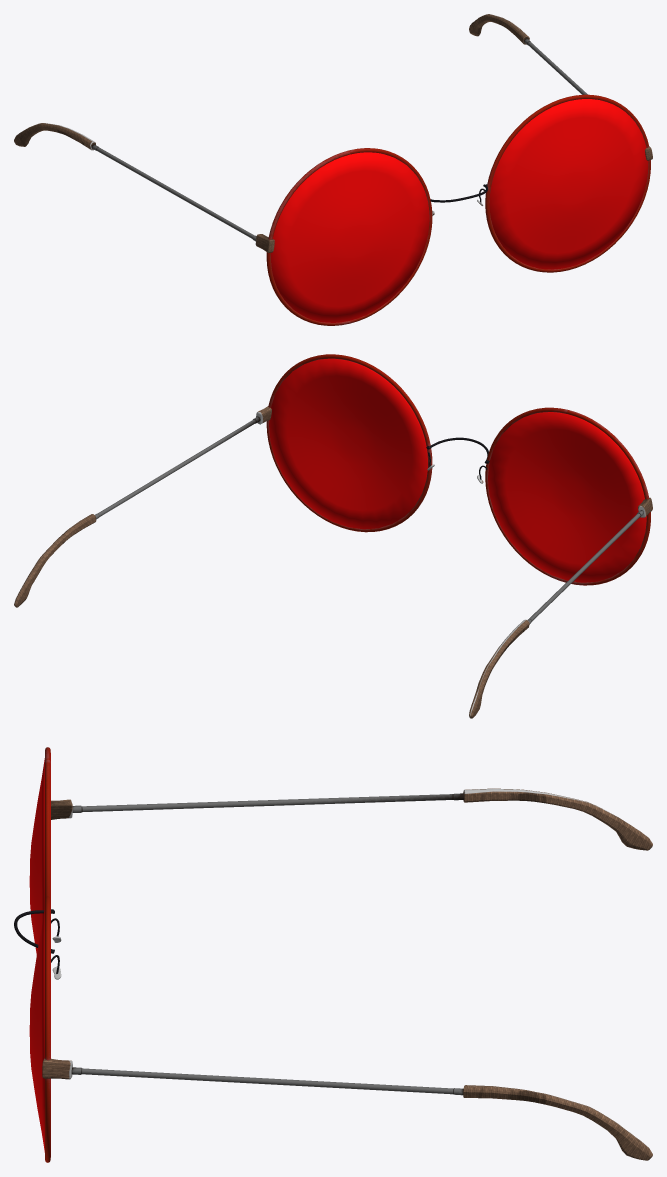
Rendered from lentesbadbunny.glb.
3 renders of one model, top to bottom at view 1: azimuth 30°, elevation 25°; view 2: azimuth 150°, elevation 25°; view 3: azimuth 270°, elevation 25°, orthographic. The views are drawn at different scales.
Visible parts, largest first — view 1: polySurface15, polySurface14, polySurface2, polySurface1, polySurface12, polySurface13, polySurface10; view 2: polySurface15, polySurface14, polySurface2, polySurface1, polySurface10, polySurface13, polySurface9, polySurface12; view 3: polySurface10, polySurface13, polySurface15, polySurface9, polySurface12, polySurface14, polySurface2, polySurface1, polySurface8.
Boxes of the visible parts, x1,y1,x2,y2 form: polySurface15: (489, 99, 648, 269); polySurface14: (271, 152, 429, 322); polySurface2: (485, 94, 650, 272); polySurface1: (266, 148, 432, 325); polySurface12: (91, 144, 256, 241); polySurface13: (14, 123, 95, 150); polySurface10: (469, 14, 529, 44); polySurface15: (269, 358, 427, 529); polySurface14: (488, 412, 646, 582); polySurface2: (266, 354, 432, 532); polySurface1: (485, 407, 650, 585); polySurface10: (14, 514, 96, 607); polySurface13: (469, 619, 529, 718); polySurface9: (95, 416, 260, 519); polySurface12: (527, 510, 643, 623); polySurface10: (463, 1085, 652, 1160); polySurface13: (463, 788, 652, 850); polySurface15: (29, 902, 50, 1157); polySurface9: (71, 1067, 463, 1095); polySurface12: (72, 793, 464, 812); polySurface14: (29, 753, 50, 954); polySurface2: (45, 896, 50, 1162); polySurface1: (45, 747, 50, 898); polySurface8: (42, 1058, 72, 1079).
Size of the model in its own units: 0.0545 by 0.0197 by 0.0471.
Materials: 5 (4 with a texture image).
